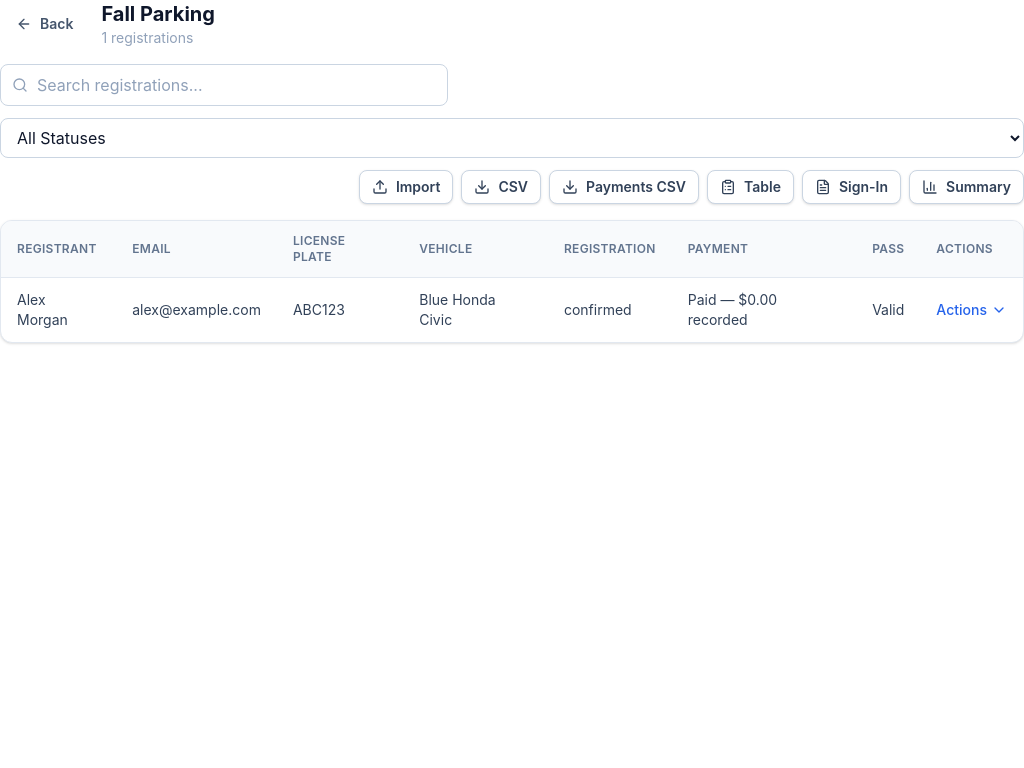
it: RegistrationViewer › leaves a printed pass Valid when staff chooses Not yet
This screenshot has width=1024, height=768.
Click the button "Actions". click: [972, 310]
box: [936,300,1007,320]
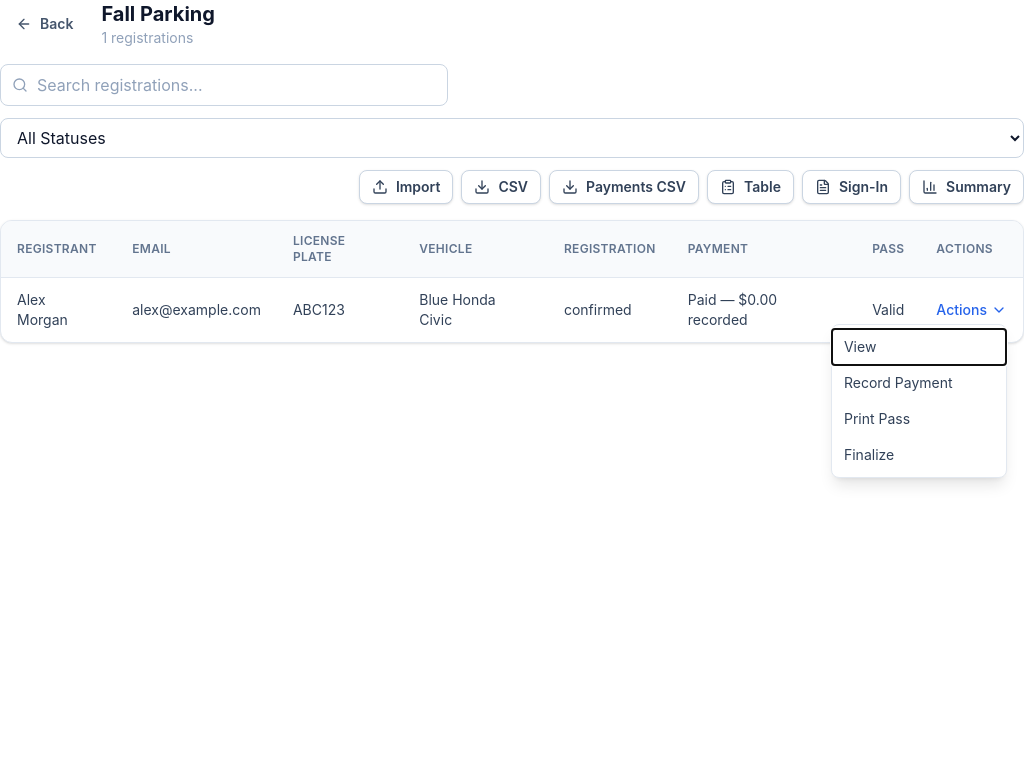
Click the menu item "Print Pass". click: [919, 419]
box: [832,401,1006,437]
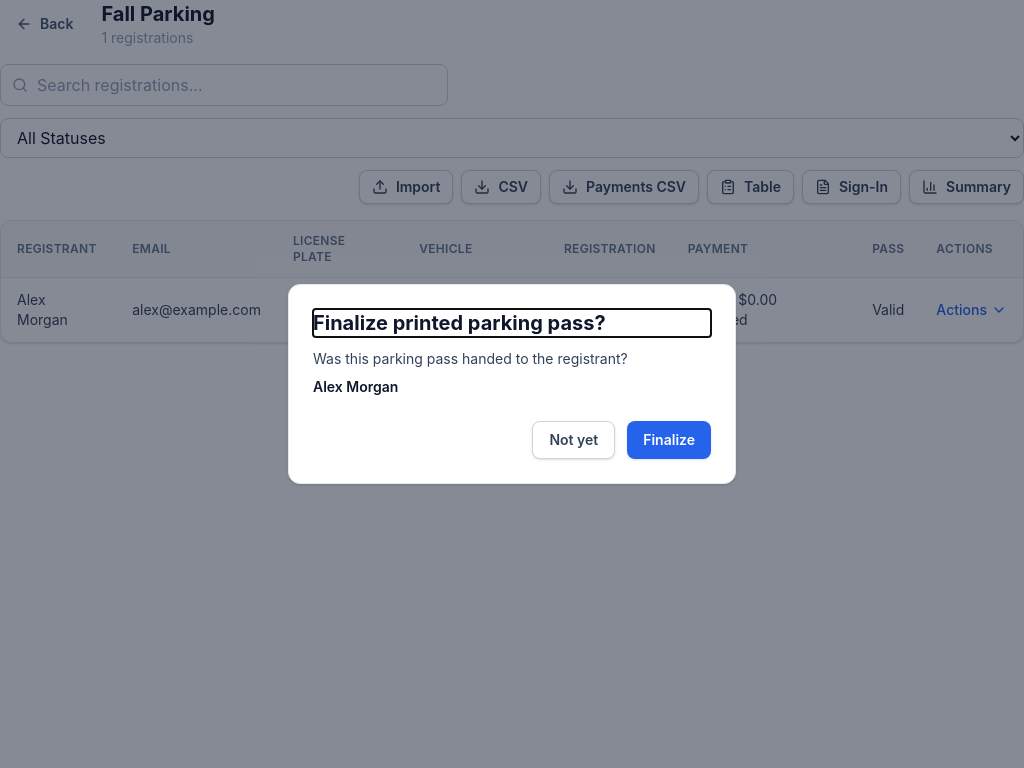
Click the button "Not yet". click: [574, 440]
box: [532,421,615,459]
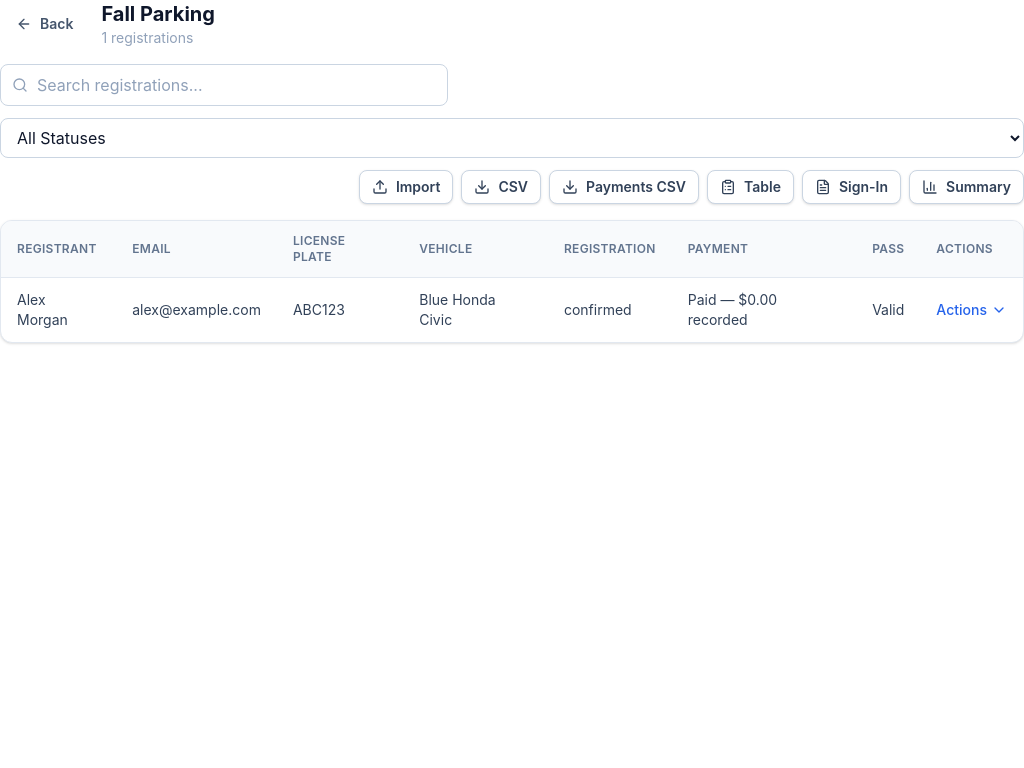
Expected: the text "Valid" is shown, [856,278,920,342]
Expected: the dialog is gone
